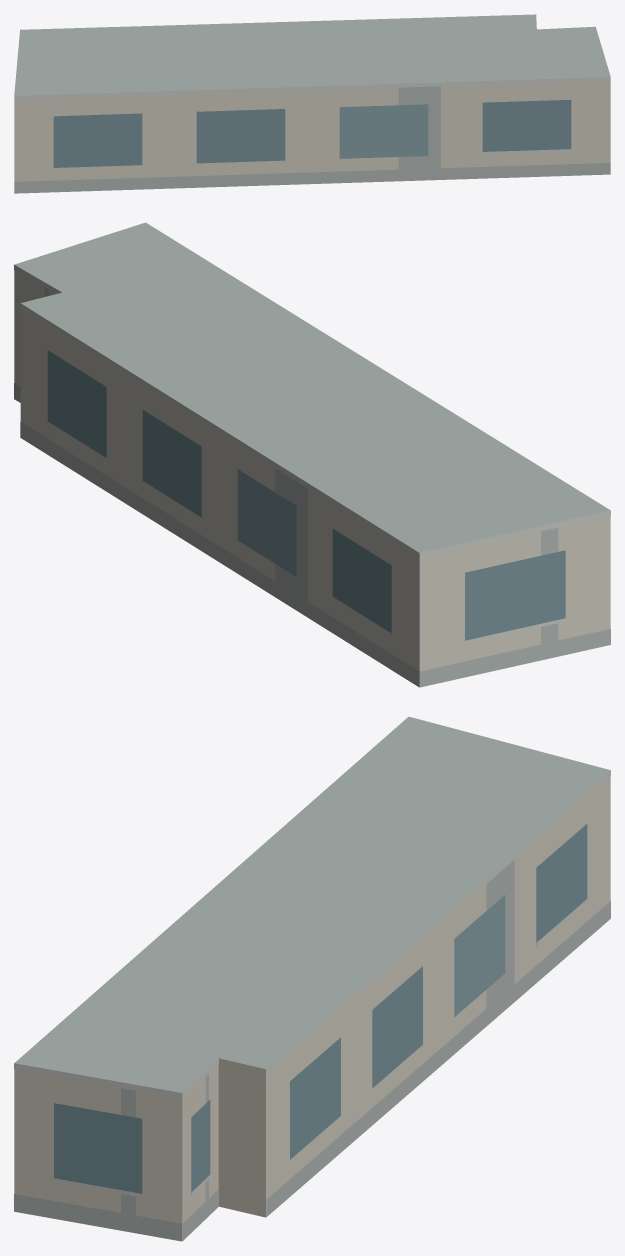
File: residential-2818af0f-23c4-44a3-9488-07050c082ce2.glb
The picture shows the model from 3 angles, top to bottom: view 1: azimuth 30°, elevation 25°; view 2: azimuth 150°, elevation 25°; view 3: azimuth 270°, elevation 25°; orthographic projection. The views are drawn at different scales.
Parts seen in each view (by area): view 1: residential-2818af0f-23c4-44a3-9488-07050c082ce2.tmp; view 2: residential-2818af0f-23c4-44a3-9488-07050c082ce2.tmp; view 3: residential-2818af0f-23c4-44a3-9488-07050c082ce2.tmp.
Boxes of the visible parts, x1,y1,x2,y2 form: residential-2818af0f-23c4-44a3-9488-07050c082ce2.tmp: (14, 14, 610, 193); residential-2818af0f-23c4-44a3-9488-07050c082ce2.tmp: (14, 222, 610, 687); residential-2818af0f-23c4-44a3-9488-07050c082ce2.tmp: (14, 716, 610, 1241).
Bounding box in the file's own units: 16.61 × 3.05 × 11.12.
